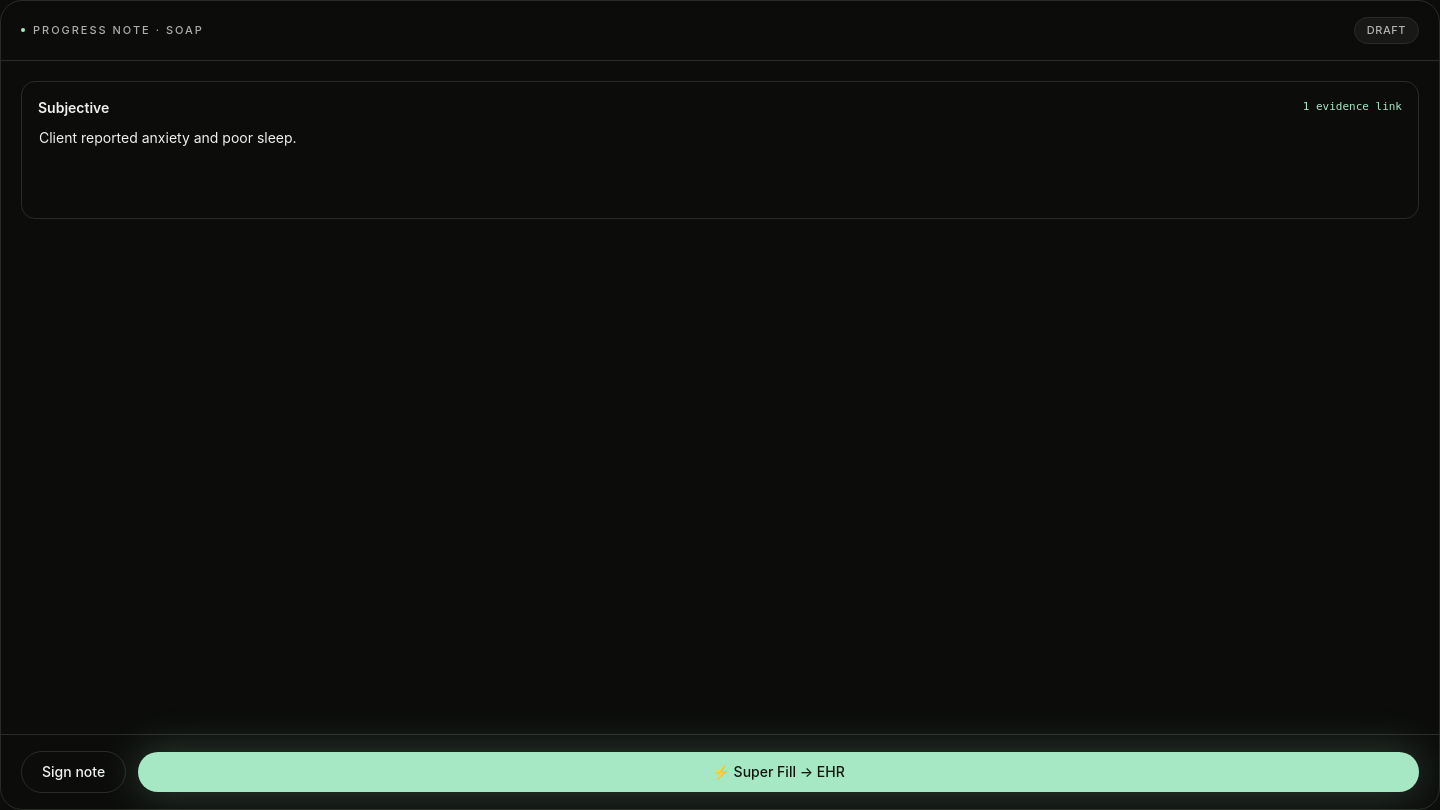
it: NoteEditor › opens an evidence popover showing the supporting transcript span
Step 1. Click the button with aria-label "Show 1 evidence link for Subjective" → (1352,108), box [1303, 99, 1402, 116]
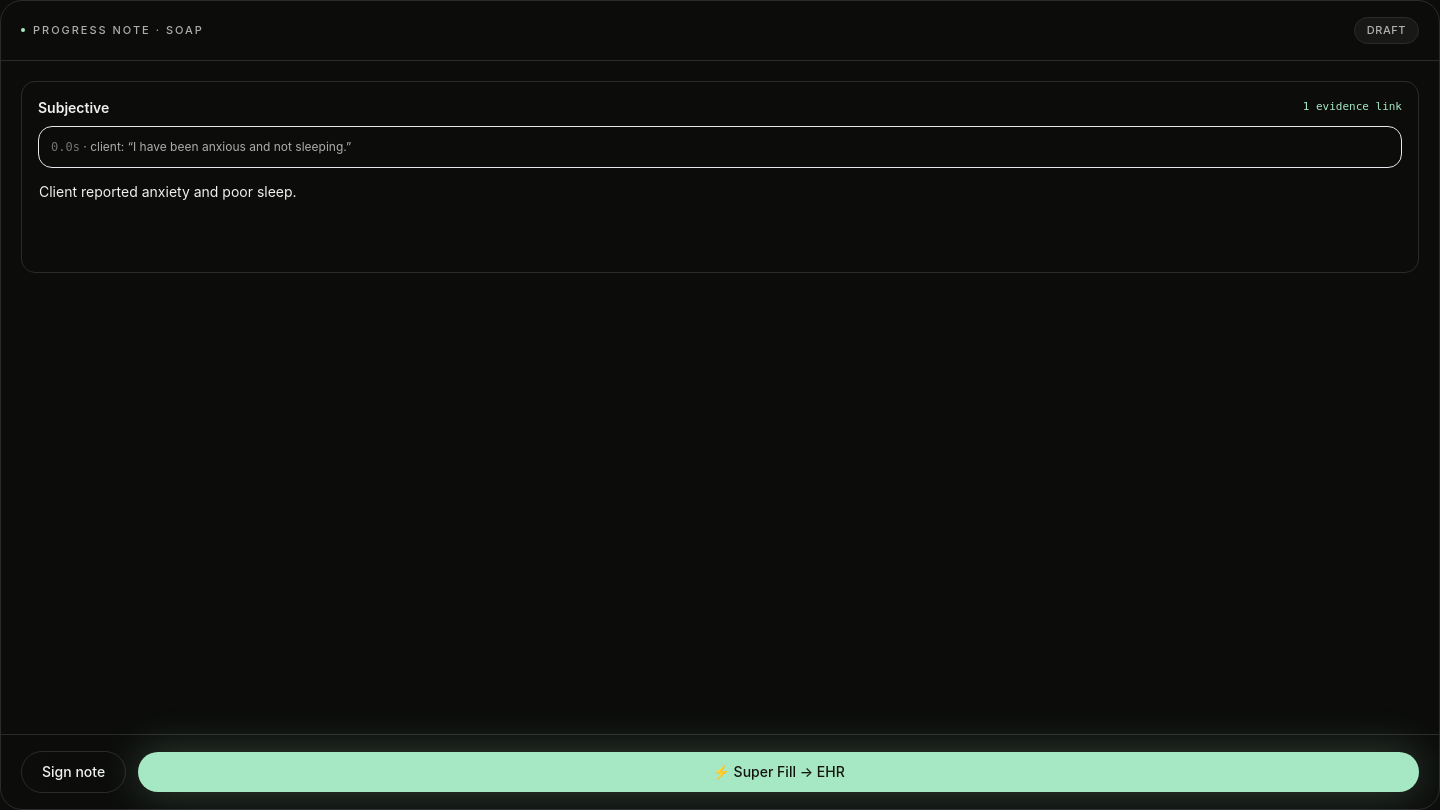
Check: the dialog named "Evidence for Subjective" shows "anxious and not sleeping", box [133, 138, 346, 154]
